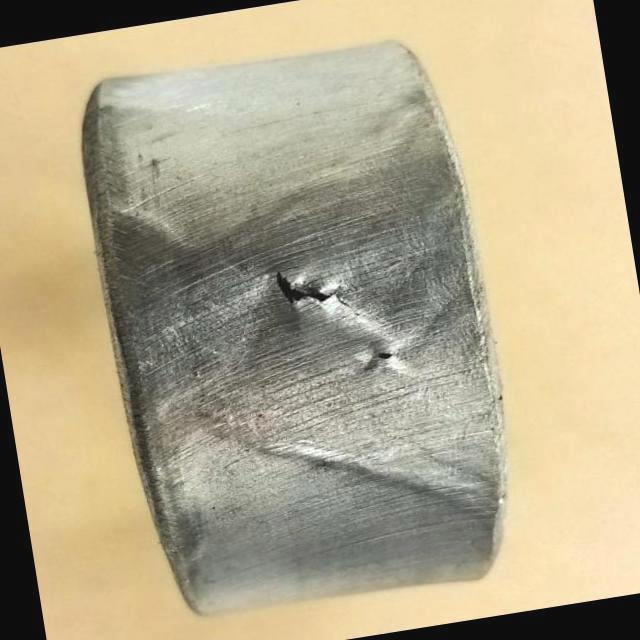defect: (265, 268, 365, 316)
